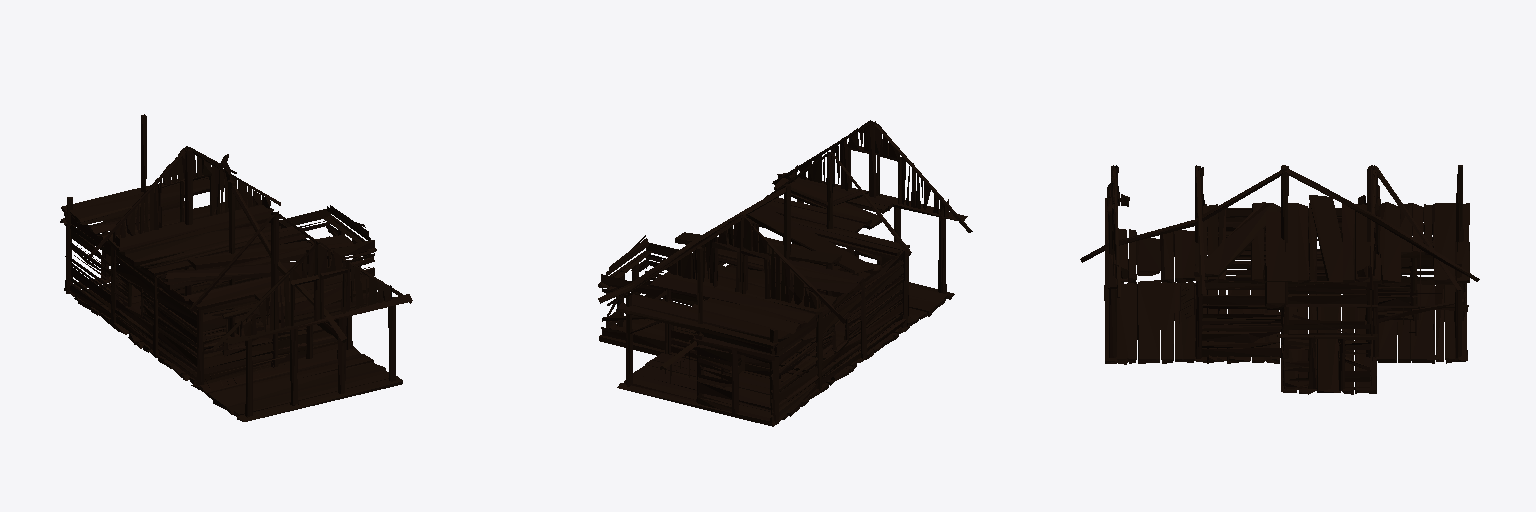
File: -LOD2_p_hut_003.obj
3 renders of one model, left to right at view 1: azimuth 30°, elevation 25°; view 2: azimuth 150°, elevation 25°; view 3: azimuth 270°, elevation 25°, orthographic.
Parts seen in each view (by area): view 1: Cylinder.000_Cylinder.002; view 2: Cylinder.000_Cylinder.002; view 3: Cylinder.000_Cylinder.002.
Part boxes in pixels (left/top/right/bottom): Cylinder.000_Cylinder.002: left=60, top=114, right=412, bottom=421; Cylinder.000_Cylinder.002: left=598, top=120, right=972, bottom=426; Cylinder.000_Cylinder.002: left=1080, top=165, right=1479, bottom=394.
Size of the model in its own units: 13.31 by 8.29 by 18.66.